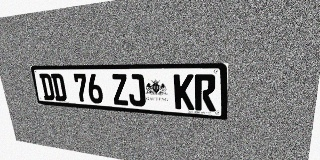6: (86, 74, 104, 104)
7: (72, 74, 90, 103)
D: (51, 74, 67, 101), (39, 74, 55, 100)
J: (127, 74, 146, 107)
K: (174, 74, 194, 110)
R: (194, 74, 216, 112)
Z: (111, 74, 129, 106)
